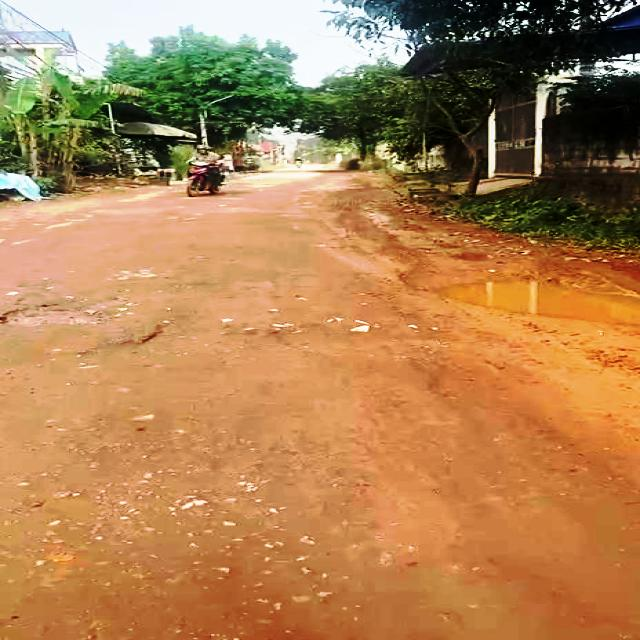pothole: (433, 275, 640, 327), (0, 295, 139, 329)
